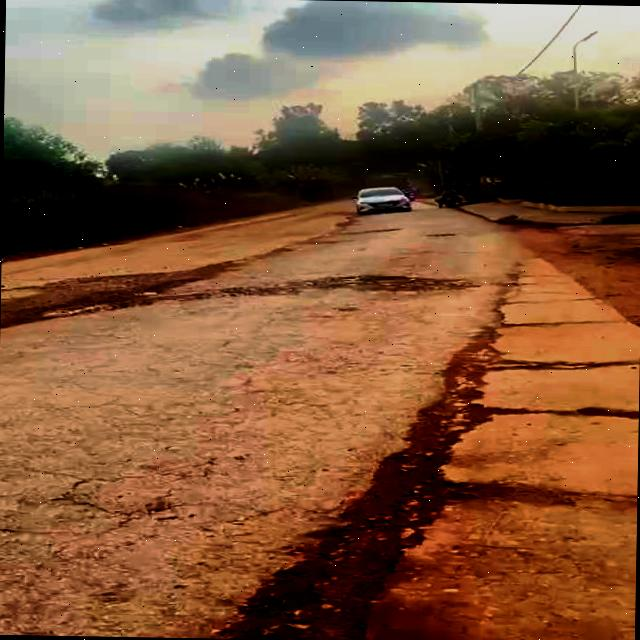pothole: (215, 477, 452, 640)
